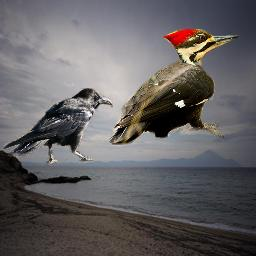Crow: (2, 87, 113, 167)
Woodpecker: (109, 29, 242, 145)
